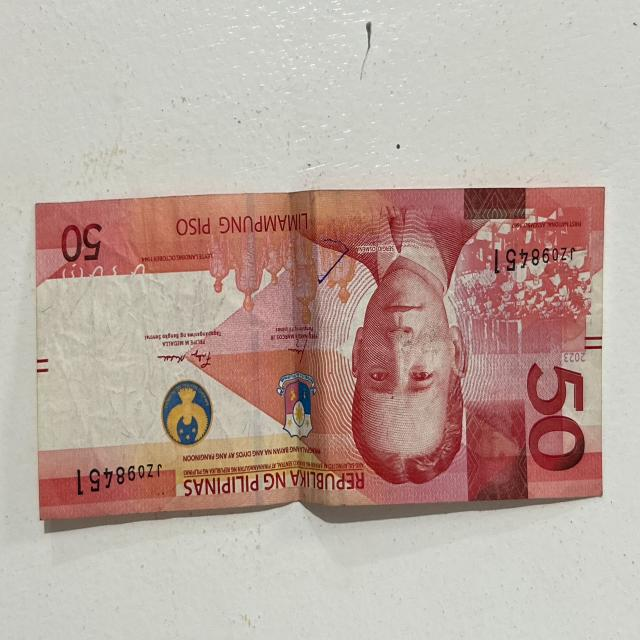concealed_value: (466, 396, 525, 498)
security_thread: (248, 185, 264, 509)
see_through_mark: (52, 253, 158, 293)
serial_number: (68, 446, 164, 500), (488, 244, 582, 278)
value: (524, 345, 589, 483)
